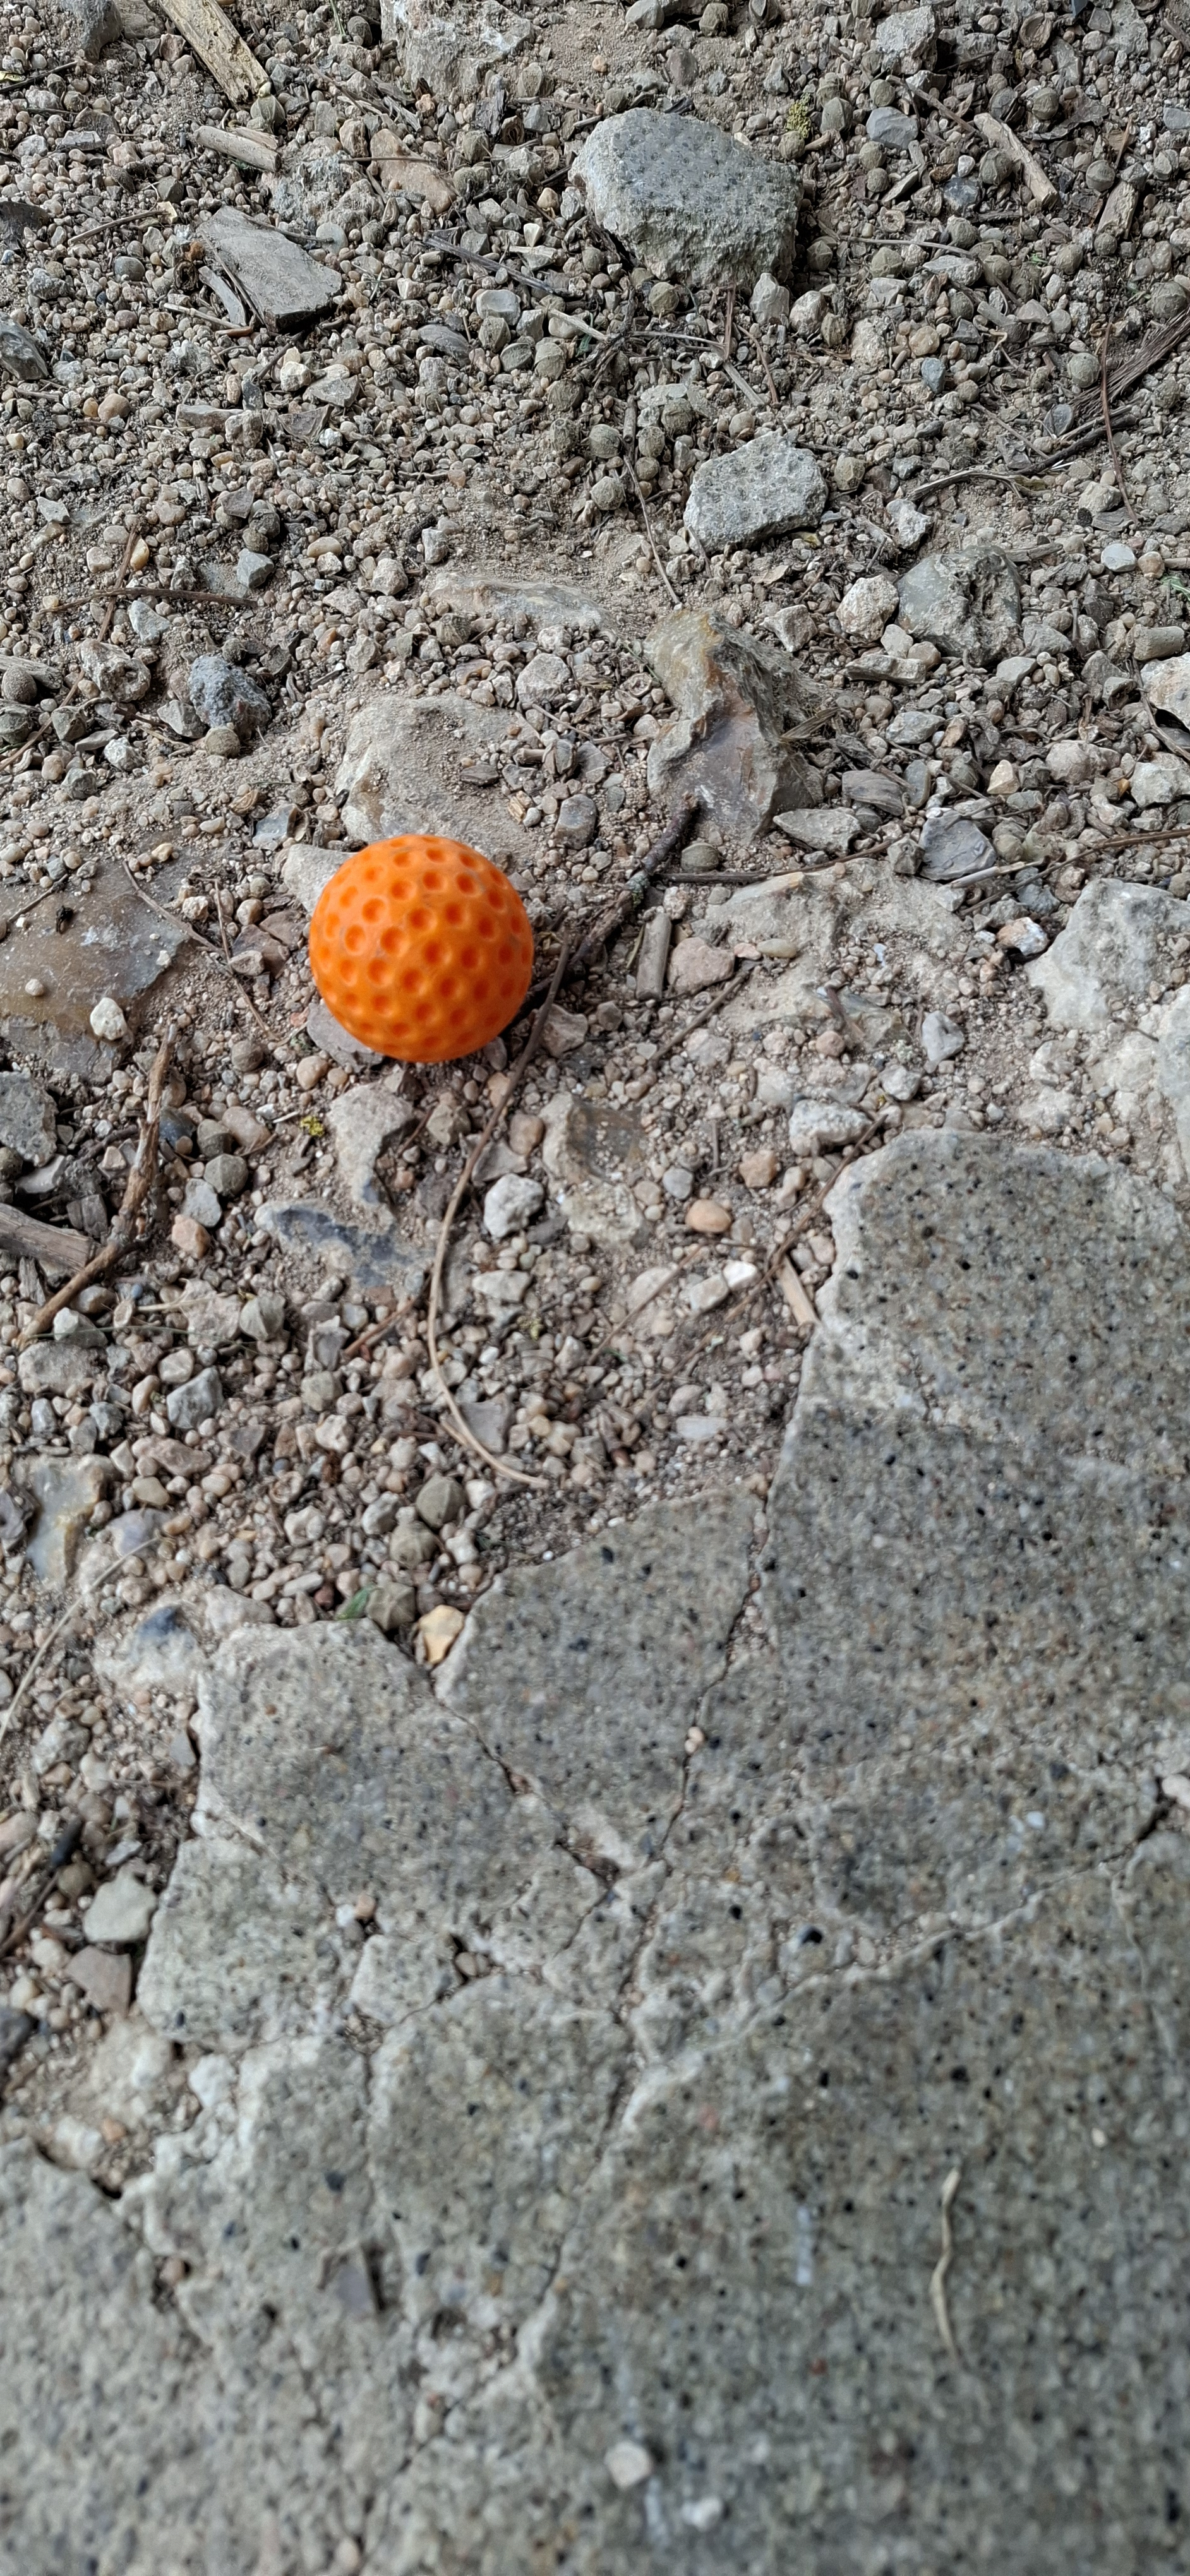ball: (383, 1413, 493, 1912)
